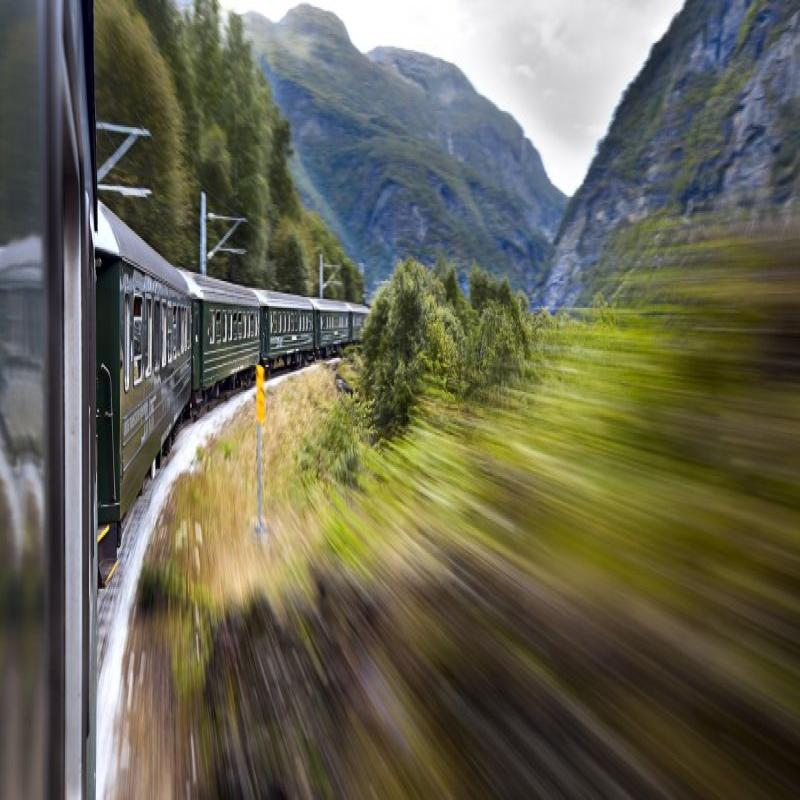train: (100, 194, 196, 511), (199, 266, 262, 401), (265, 278, 317, 372), (319, 296, 352, 355)
